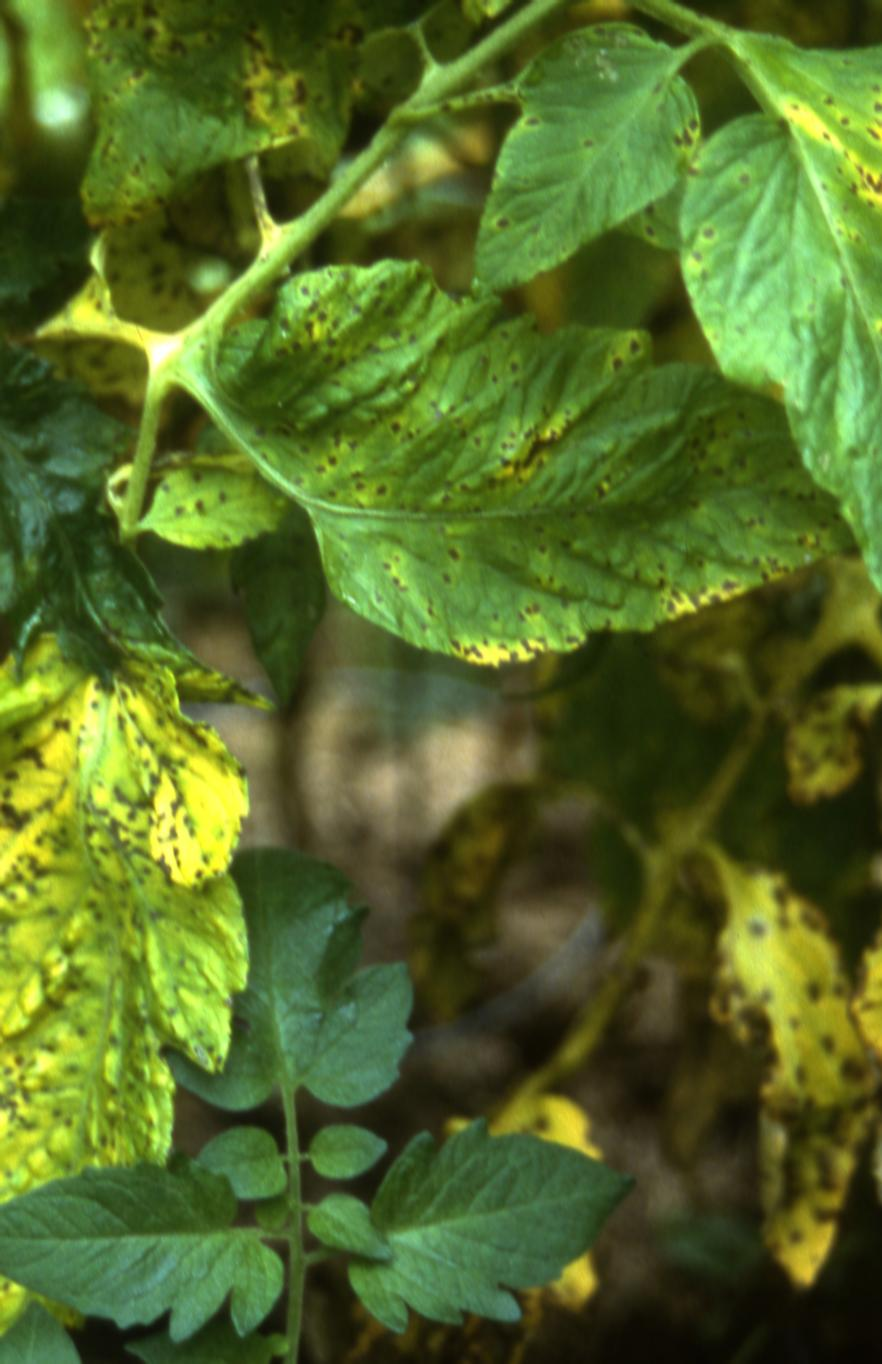Tomato Septoria leaf spot: (132, 218, 846, 700), (0, 533, 265, 1364), (428, 0, 732, 317)
